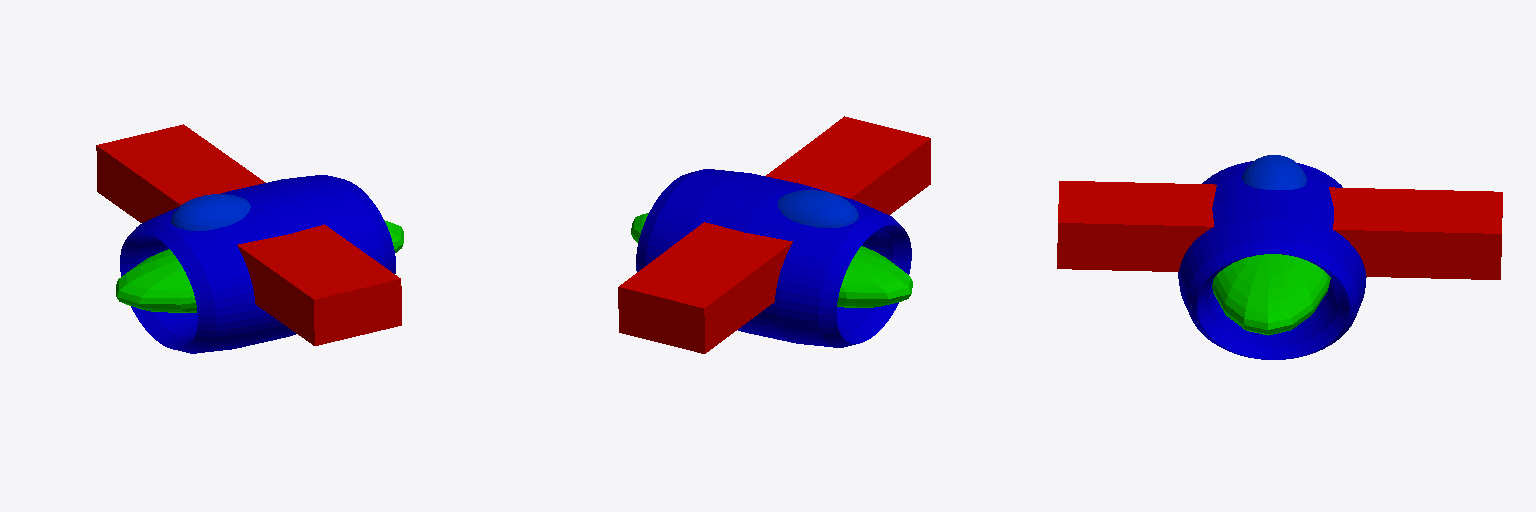
The model's file is engine.obj.
The picture shows the model from 3 angles: view 1: azimuth 30°, elevation 25°; view 2: azimuth 150°, elevation 25°; view 3: azimuth 270°, elevation 25°; orthographic projection.
Parts seen in each view (by area): view 1: Cube_Cube.003, Torus, core, Sphere; view 2: Cube_Cube.003, Torus, core, Sphere; view 3: Cube_Cube.003, Torus, core, Sphere.
Part boxes in pixels (left/top/right/bottom): Cube_Cube.003: left=96, top=124, right=401, bottom=345; Torus: left=120, top=175, right=395, bottom=353; core: left=116, top=220, right=403, bottom=312; Sphere: left=171, top=194, right=250, bottom=230; Cube_Cube.003: left=618, top=116, right=930, bottom=353; Torus: left=636, top=169, right=911, bottom=347; core: left=631, top=213, right=912, bottom=307; Sphere: left=778, top=190, right=858, bottom=227; Cube_Cube.003: left=1057, top=181, right=1502, bottom=279; Torus: left=1178, top=161, right=1366, bottom=359; core: left=1212, top=254, right=1330, bottom=335; Sphere: left=1242, top=155, right=1306, bottom=189.
Size of the model in its own units: 8.9 by 4.24 by 12.15.